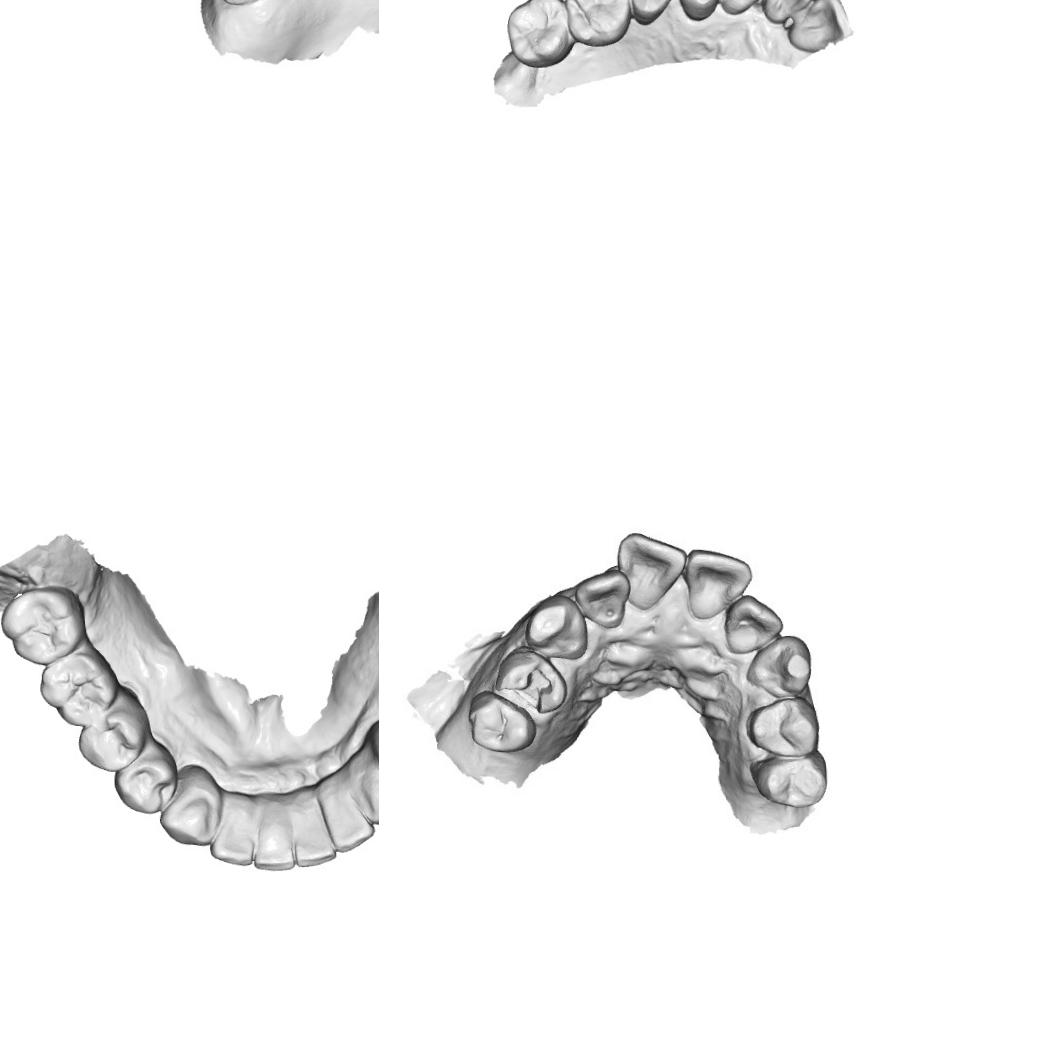canine: (158, 772, 224, 848), (522, 592, 590, 662), (743, 634, 812, 700), (351, 759, 379, 829), (719, 0, 772, 16)
incisor: (615, 529, 688, 613), (680, 545, 754, 622), (720, 591, 786, 658), (571, 568, 633, 630), (785, 0, 855, 54), (288, 797, 339, 869), (325, 789, 379, 855), (205, 798, 255, 868), (250, 806, 300, 874), (761, 0, 816, 25)
inlay: (497, 665, 557, 714)
molar: (0, 582, 87, 668), (36, 650, 118, 732), (504, 0, 580, 69), (562, 0, 633, 48)
premolar: (752, 751, 834, 821), (75, 702, 148, 774), (463, 687, 538, 756), (744, 699, 822, 762), (111, 747, 178, 816), (628, 0, 678, 26), (671, 0, 723, 23)
